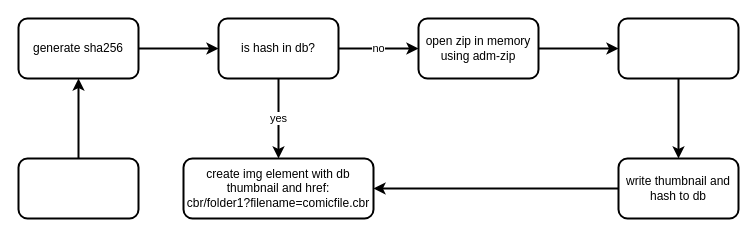
The diagram is 756 pixels wide and 236 high, and some of its shapes have lost their labels. The centre of each missing label's shape, as x and y in pixels:
cbr?: (x=78, y=188)
extract first image as {{guid}}.{{ext}} to thumbnail path: (x=678, y=48)
